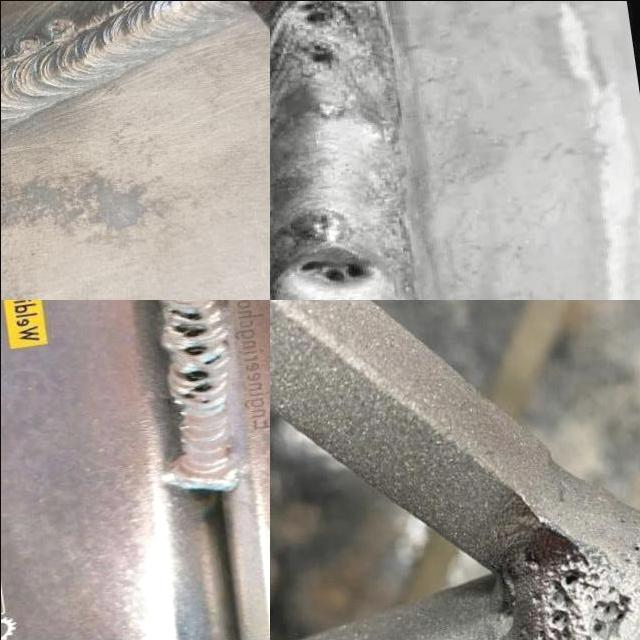defect: (514, 566, 599, 640), (288, 257, 378, 288), (176, 351, 223, 402), (590, 584, 631, 637), (297, 35, 345, 73), (292, 0, 339, 32), (44, 16, 72, 37), (14, 34, 43, 53), (622, 541, 640, 569), (173, 324, 206, 338), (169, 308, 202, 322), (180, 344, 209, 357), (615, 514, 628, 525), (100, 7, 109, 14), (199, 399, 209, 404)
